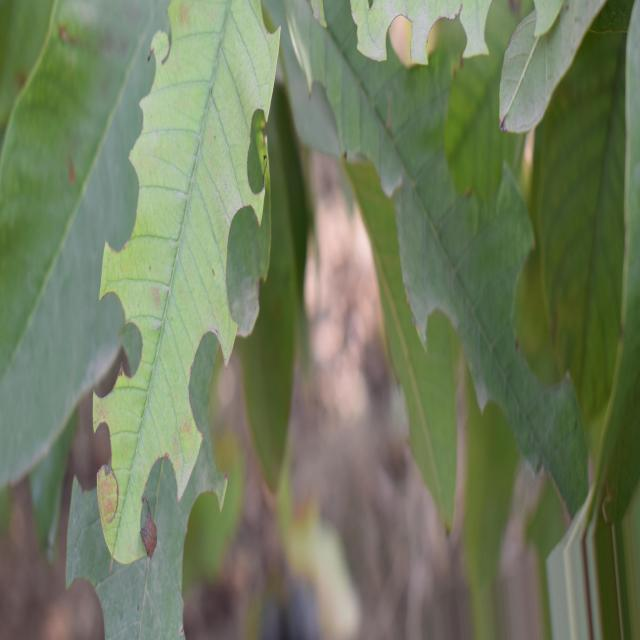Canker: (94, 0, 280, 564), (350, 0, 491, 66)
